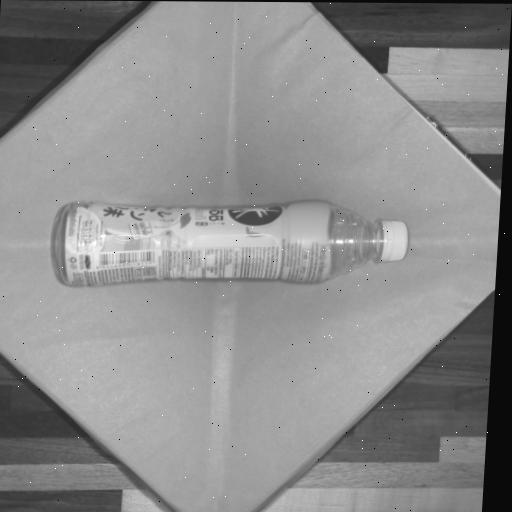bottle: (35, 183, 436, 304)
